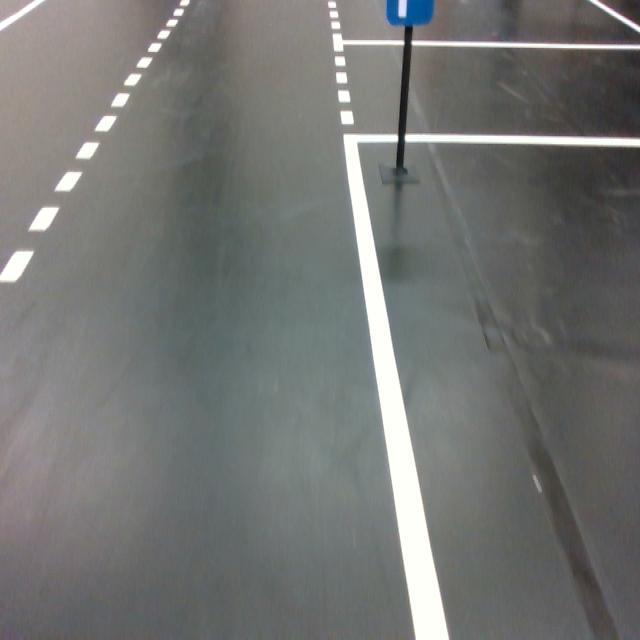parking-sign: (385, 0, 435, 27)
